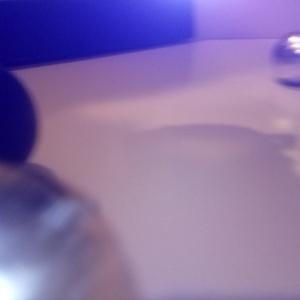alive_ball: (1, 162, 141, 300), (269, 31, 300, 86)
dead_ball: (1, 67, 37, 168)
